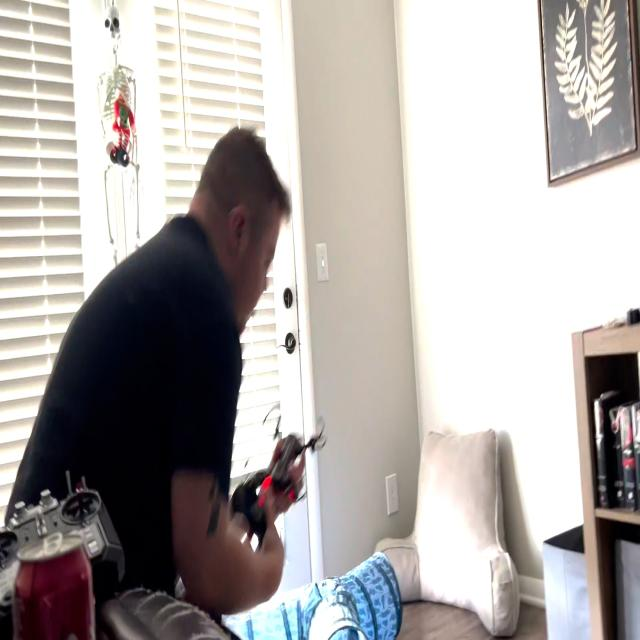drone: (236, 394, 328, 518)
